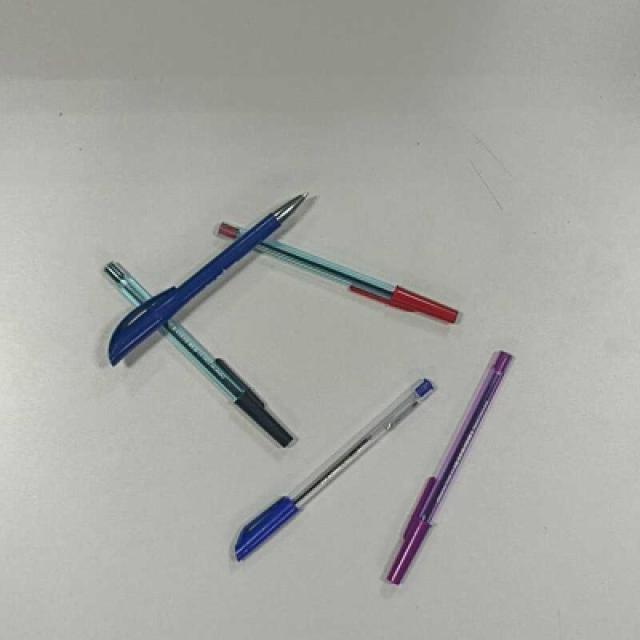caneta: (94, 175, 314, 367), (223, 377, 440, 562), (103, 253, 297, 452), (379, 349, 516, 588), (214, 222, 460, 327)
